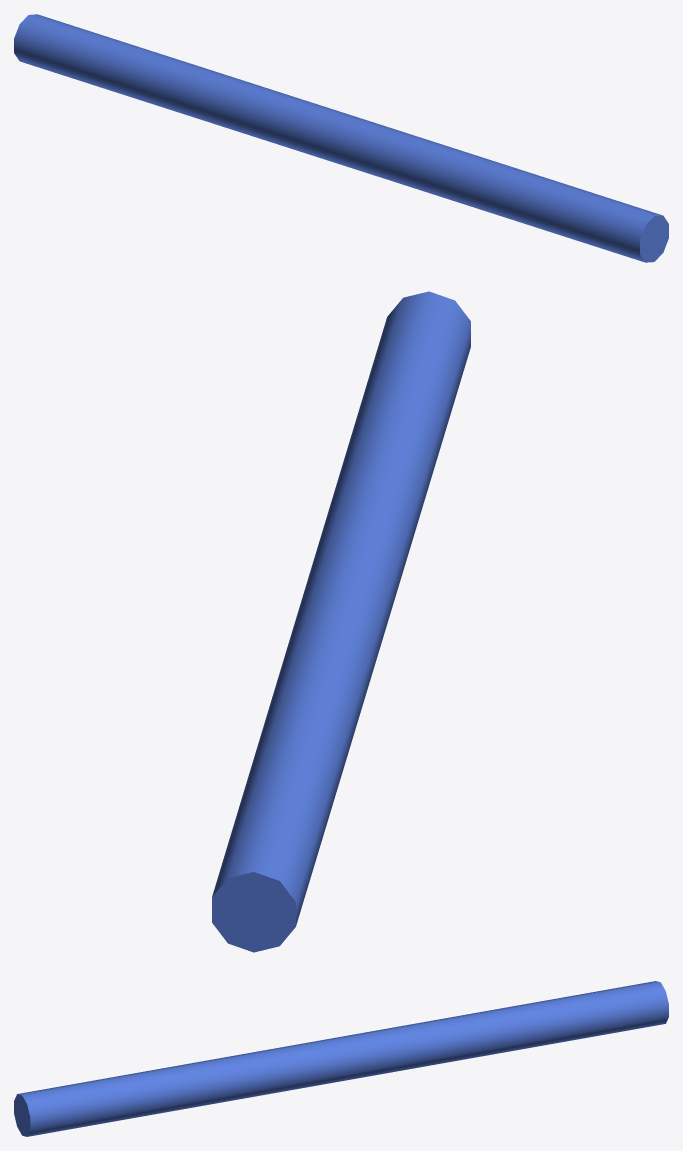
The model's file is pen.fbx.
The picture shows the model from 3 angles, top to bottom: view 1: azimuth 30°, elevation 25°; view 2: azimuth 150°, elevation 25°; view 3: azimuth 270°, elevation 25°; orthographic projection. The views are drawn at different scales.
Parts seen in each view (by area): view 1: pen; view 2: pen; view 3: pen.
Part boxes in pixels (left/top/right/bottom): pen: left=14, top=14, right=668, bottom=262; pen: left=212, top=291, right=470, bottom=952; pen: left=14, top=981, right=668, bottom=1136.
Size of the model in its own units: 0.062 by 0.009 by 0.1324.
